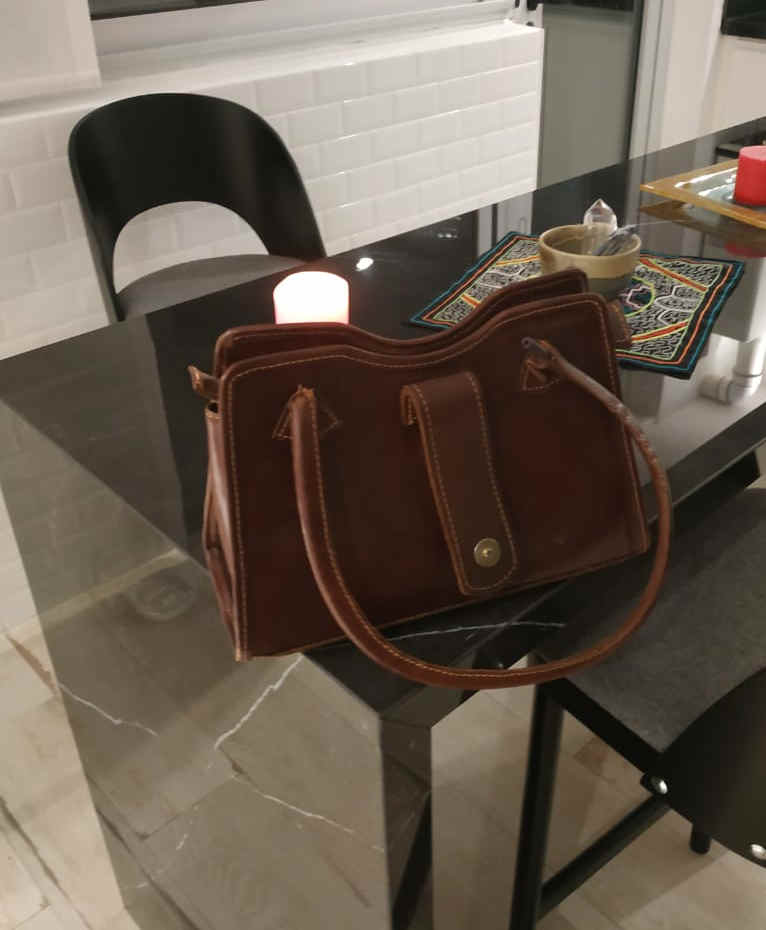Cartera: (126, 229, 710, 763)
cuero: (178, 276, 692, 714)
